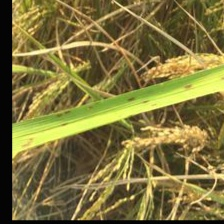Bacterial_Leaf_Blight: (52, 108, 74, 129), (20, 137, 38, 150), (179, 82, 194, 89), (124, 95, 135, 102)
